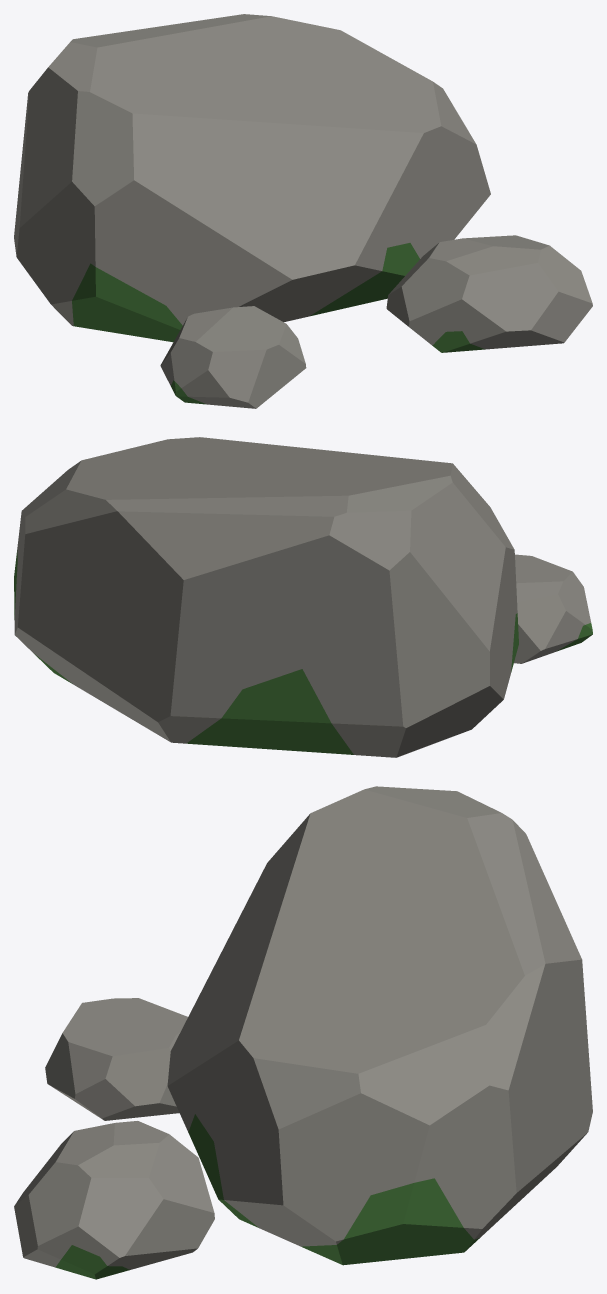
The model's file is medium-rock-e08405.glb.
3 renders of one model, top to bottom at view 1: azimuth 30°, elevation 25°; view 2: azimuth 150°, elevation 25°; view 3: azimuth 270°, elevation 25°, orthographic. The views are drawn at different scales.
Parts seen in each view (by area): view 1: rock; view 2: rock; view 3: rock.
Part boxes in pixels (x1,y1,x2,y2): rock: [14, 14, 592, 408]; rock: [14, 437, 592, 757]; rock: [14, 786, 592, 1279].
Size of the model in its own units: 1 by 0.5001 by 0.9526.
